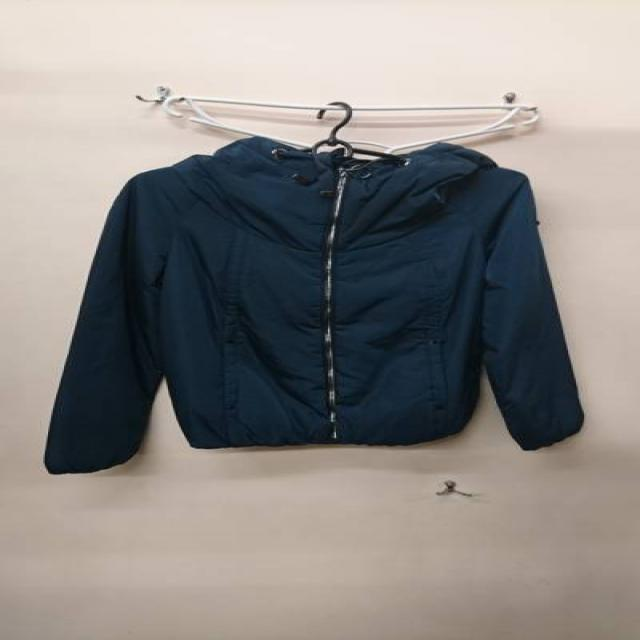Clothes -Biodegradable-: (41, 136, 584, 473)
